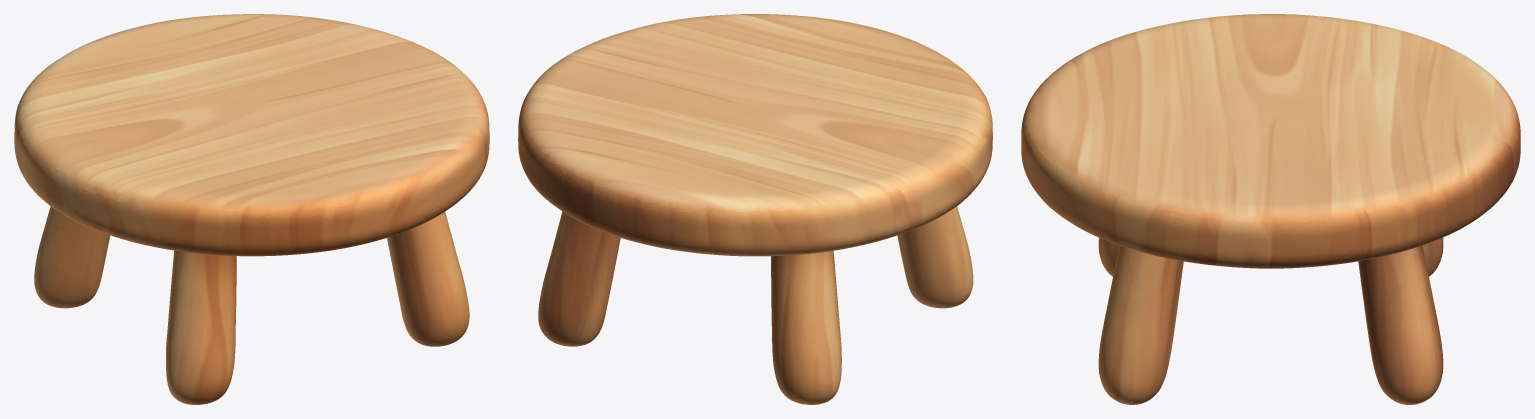
Rendered from fur_table_wood_01.glb.
3 renders of one model, left to right at view 1: azimuth 30°, elevation 25°; view 2: azimuth 150°, elevation 25°; view 3: azimuth 270°, elevation 25°, orthographic. The views are drawn at different scales.
Visible parts, largest first — view 1: geometry_0; view 2: geometry_0; view 3: geometry_0.
Part boxes in pixels (box(x1,y1,x2,y2)): geometry_0: box(14, 14, 489, 404); geometry_0: box(518, 14, 992, 404); geometry_0: box(1021, 14, 1520, 404).
Bounding box in the file's own units: 0.45 × 0.2262 × 0.4501.
Materials: 1 (1 with a texture image).
